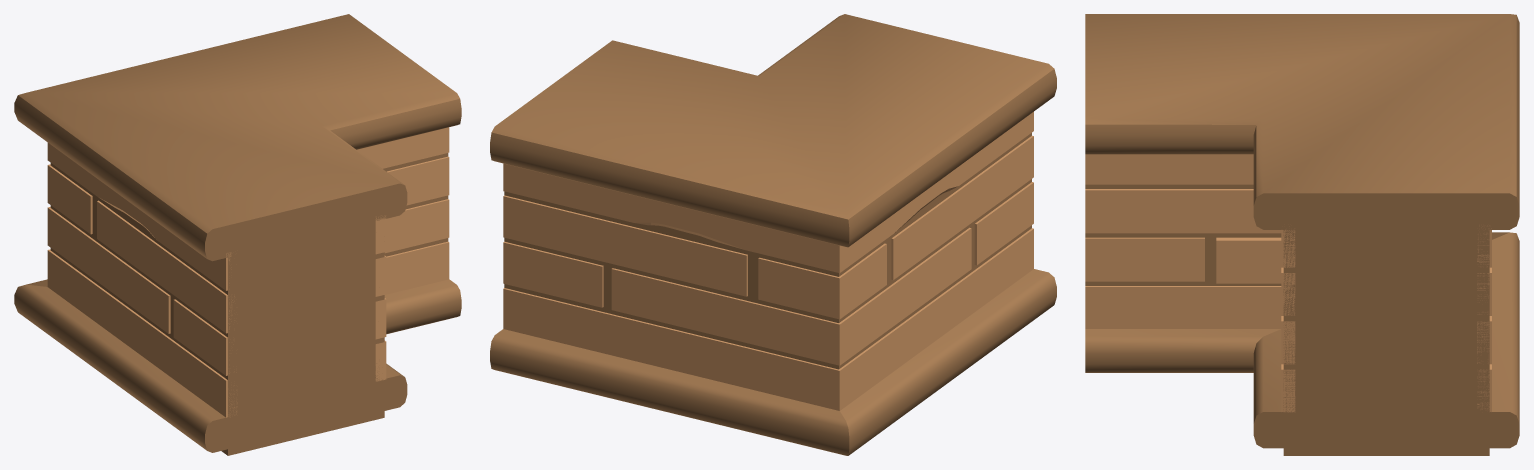
Rendered from quaternius-sushi-restaurant-environment-counter-corner.glb.
3 views of the same model, side by side, from view 1: azimuth 30°, elevation 25°; view 2: azimuth 150°, elevation 25°; view 3: azimuth 270°, elevation 25° (orthographic). The views are drawn at different scales.
Parts seen in each view (by area): view 1: Environment_Counter_Corner; view 2: Environment_Counter_Corner; view 3: Environment_Counter_Corner.
Boxes of the visible parts, box(x1,y1,x2,y2) form: Environment_Counter_Corner: box(14, 14, 461, 455); Environment_Counter_Corner: box(490, 14, 1056, 455); Environment_Counter_Corner: box(1085, 14, 1519, 455).
Bounding box in the file's own units: 2.88 × 1.92 × 2.88.
1 material, 1 textured.
